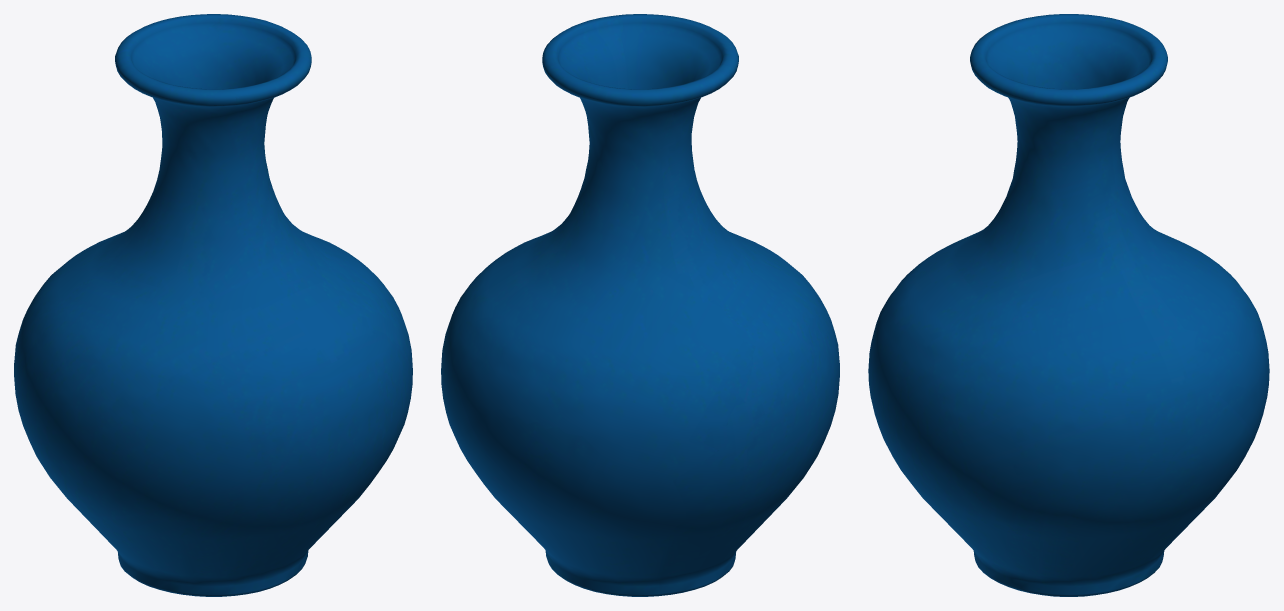
The model's file is a_blue_vase_sculpture_fd909777_v1.glb.
3 renders of one model, left to right at view 1: azimuth 30°, elevation 25°; view 2: azimuth 150°, elevation 25°; view 3: azimuth 270°, elevation 25°, orthographic.
Parts seen in each view (by area): view 1: material; view 2: material; view 3: material.
Part boxes in pixels (x1=…): material: x1=14, y1=14, x2=412, y2=596; material: x1=441, y1=14, x2=839, y2=596; material: x1=868, y1=14, x2=1269, y2=596.
Bounding box in the file's own units: 1.36 × 1.9 × 1.36.
Materials: 1 (1 with a texture image).
